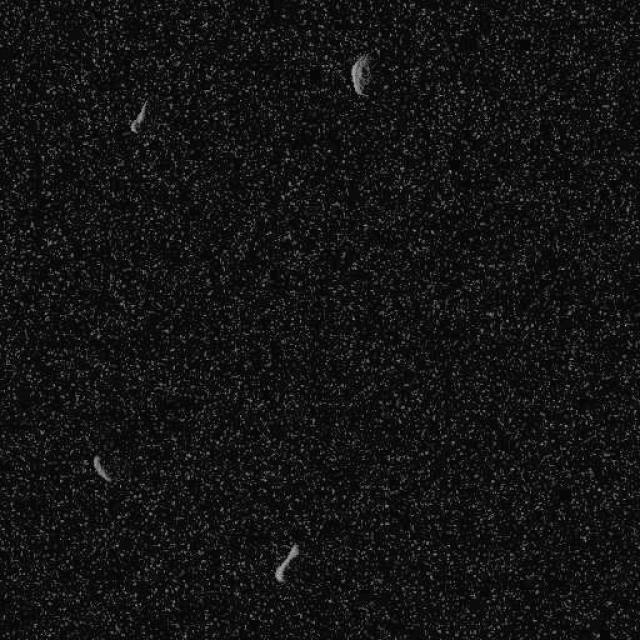D2: (272, 542, 300, 582), (350, 52, 371, 96), (128, 98, 148, 134), (91, 452, 112, 483)
